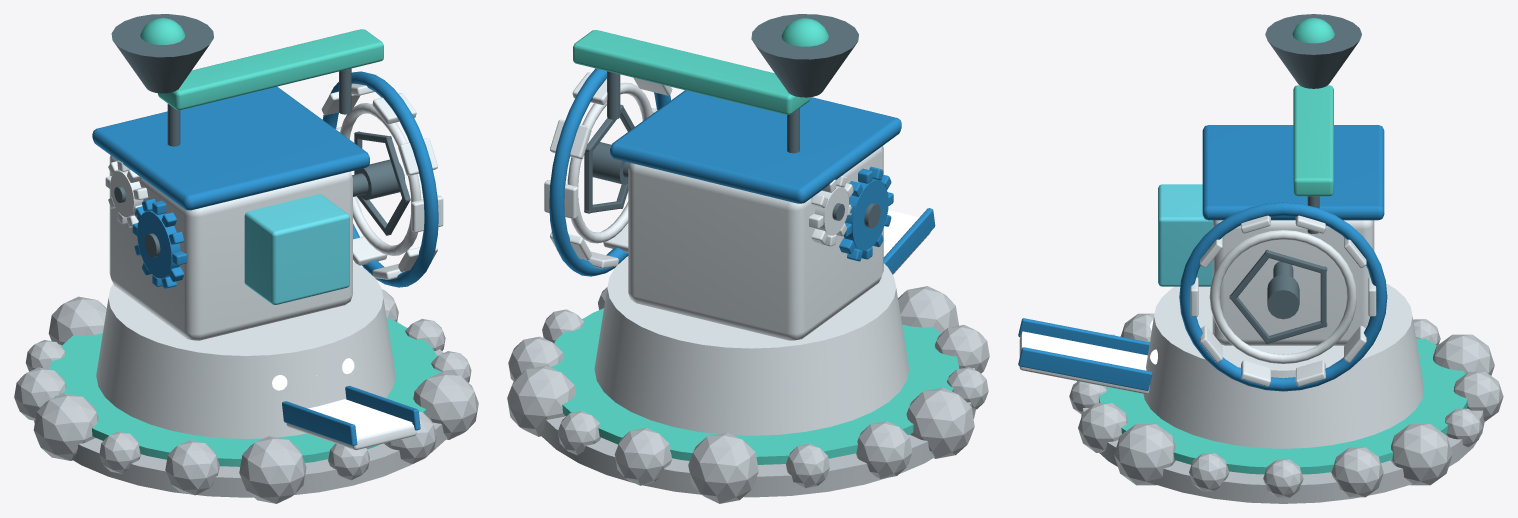
Rendered from RiverMill.fbx.
3 views of the same model, side by side, from view 1: azimuth 30°, elevation 25°; view 2: azimuth 150°, elevation 25°; view 3: azimuth 270°, elevation 25° (orthographic). The views are drawn at different scales.
Parts seen in each view (by area): view 1: Base.002, MachineBody.002, WaterWheel, Gear_0, Gear_1, Feed.002; view 2: Base.002, MachineBody.002, WaterWheel, Gear_0, Gear_1, Feed.002; view 3: Base.002, MachineBody.002, WaterWheel, Feed.002.
Boxes of the visible parts, x1,y1,x2,y2 form: Base.002: (14,262,478,503); MachineBody.002: (92,14,383,340); WaterWheel: (321,71,443,287); Gear_0: (132,198,187,288); Gear_1: (105,160,148,227); Feed.002: (140,18,185,44); Base.002: (507,208,989,503); MachineBody.002: (573,14,901,340); WaterWheel: (544,68,672,276); Gear_0: (839,166,893,261); Gear_1: (809,175,853,246); Feed.002: (781,18,828,46); Base.002: (1018,283,1503,503); MachineBody.002: (1158,14,1384,345); WaterWheel: (1179,202,1387,391); Feed.002: (1292,18,1334,43).
Bounding box in the file's own units: 2.17 × 2.05 × 2.4.
